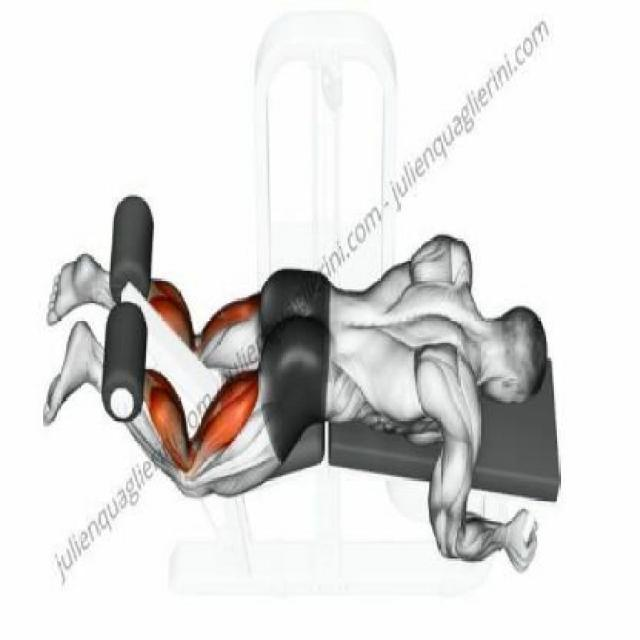reg curl machine: (43, 4, 569, 604)
